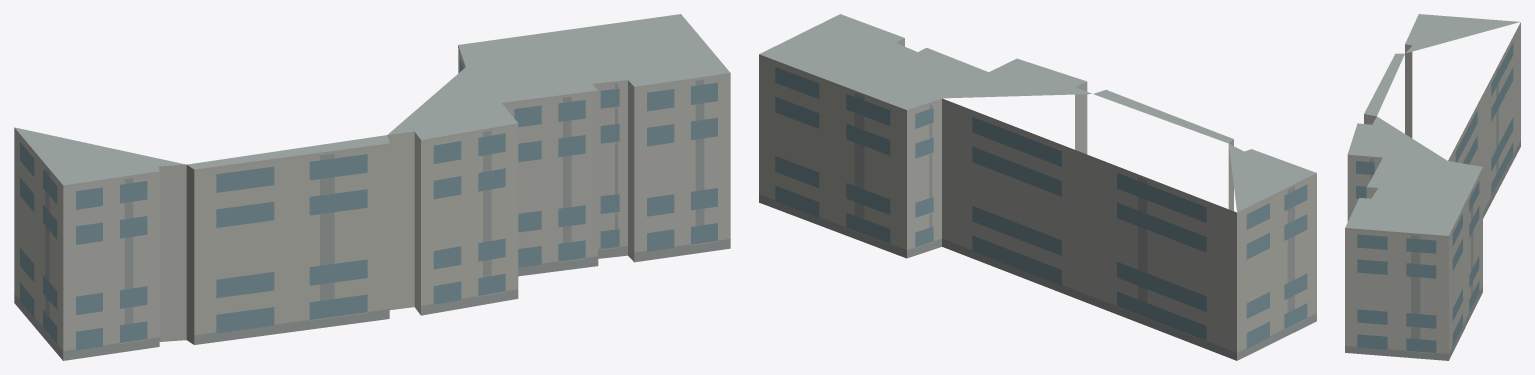
File: survey-upis-32590818.glb
3 renders of one model, left to right at view 1: azimuth 30°, elevation 25°; view 2: azimuth 150°, elevation 25°; view 3: azimuth 270°, elevation 25°, orthographic. The views are drawn at different scales.
Visible parts, largest first — view 1: survey-upis-32590818.tmp; view 2: survey-upis-32590818.tmp; view 3: survey-upis-32590818.tmp.
Boxes of the visible parts, box(x1,y1,x2,y2) form: survey-upis-32590818.tmp: box(14, 14, 730, 360); survey-upis-32590818.tmp: box(759, 14, 1316, 360); survey-upis-32590818.tmp: box(1345, 14, 1520, 360).
Size of the model in its own units: 58.1 by 15.25 by 19.45.
